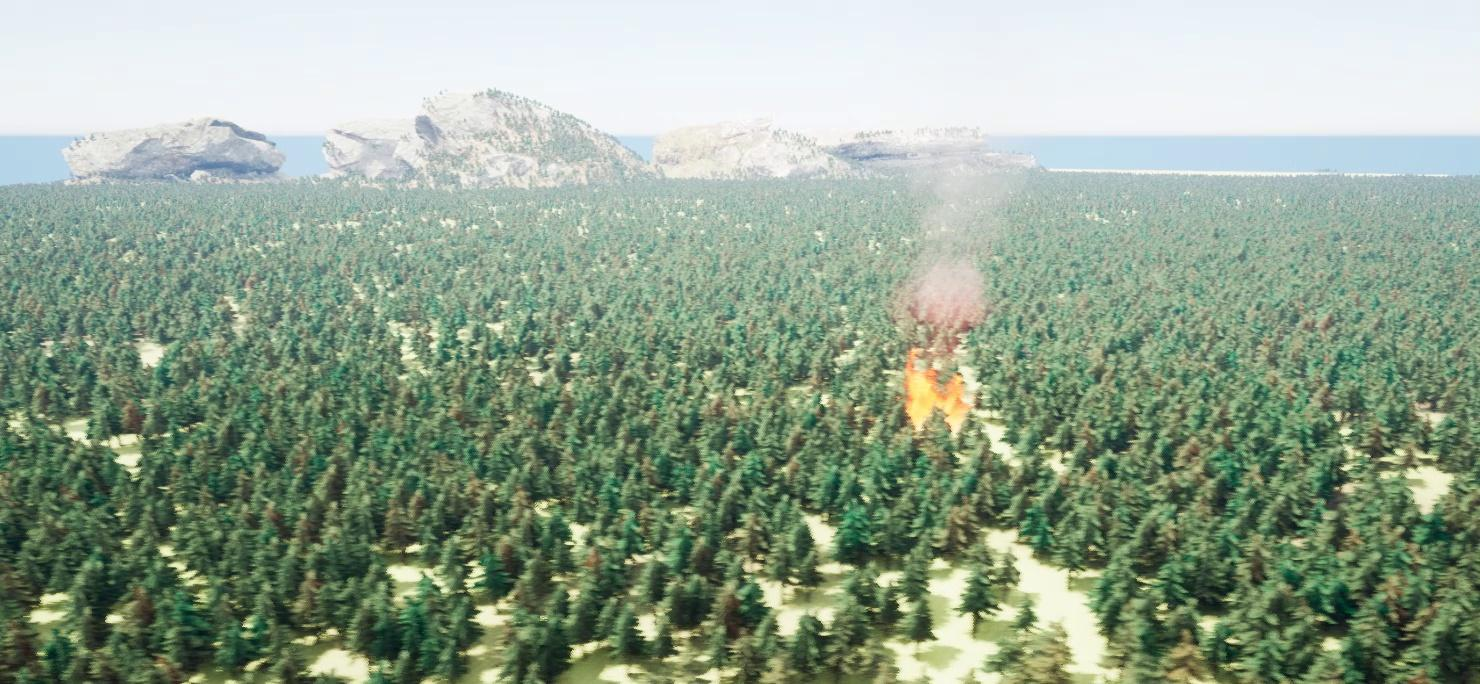fire: (900, 349, 976, 423)
smoke: (898, 129, 1010, 344)
